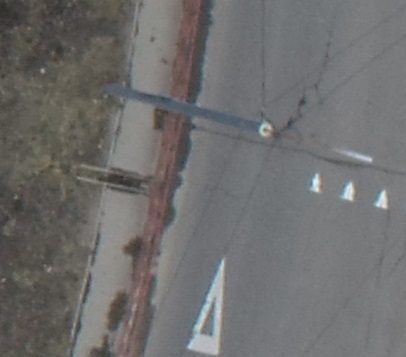opora: (100, 79, 374, 166)
